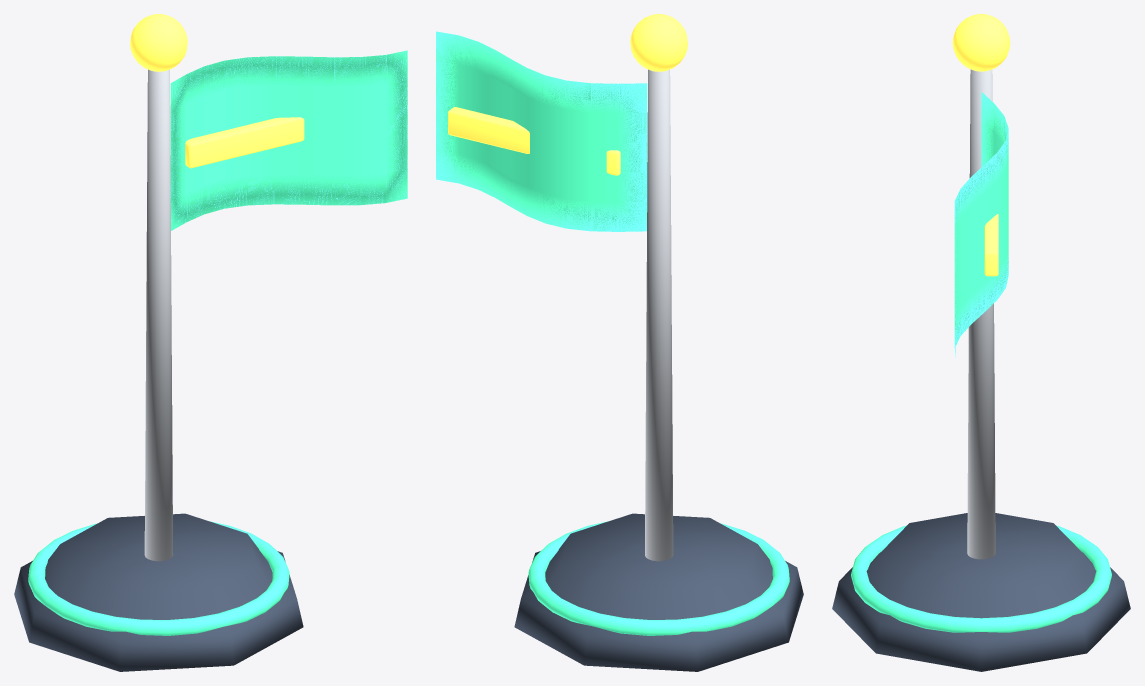
The model's file is runner_goal_flag.glb.
3 views of the same model, side by side, from view 1: azimuth 30°, elevation 25°; view 2: azimuth 150°, elevation 25°; view 3: azimuth 270°, elevation 25° (orthographic).
Visible parts, largest first — view 1: FlagBanner, GoalPad, FlagPole, GoalGlowRing, FlagStripe, PoleFinial; view 2: FlagBanner, GoalPad, FlagPole, GoalGlowRing, FlagStripe, PoleFinial; view 3: GoalPad, FlagBanner, FlagPole, GoalGlowRing, PoleFinial, FlagStripe.
Part boxes in pixels (bbox=[...]): FlagBanner: bbox=[170, 50, 407, 230]; GoalPad: bbox=[14, 513, 303, 671]; FlagPole: bbox=[144, 69, 173, 561]; GoalGlowRing: bbox=[28, 521, 289, 635]; FlagStripe: bbox=[185, 117, 304, 168]; PoleFinial: bbox=[130, 14, 187, 71]; FlagBanner: bbox=[436, 31, 647, 231]; GoalPad: bbox=[514, 513, 803, 671]; FlagPole: bbox=[645, 69, 673, 561]; GoalGlowRing: bbox=[528, 521, 789, 635]; FlagStripe: bbox=[448, 107, 620, 175]; PoleFinial: bbox=[630, 14, 687, 71]; GoalPad: bbox=[832, 513, 1130, 671]; FlagBanner: bbox=[954, 92, 1008, 357]; FlagPole: bbox=[967, 69, 995, 559]; GoalGlowRing: bbox=[851, 525, 1111, 632]; PoleFinial: bbox=[952, 14, 1010, 71]; FlagStripe: bbox=[984, 214, 998, 276].
Bounding box in the file's own units: 1.24 × 1.93 × 0.88.
